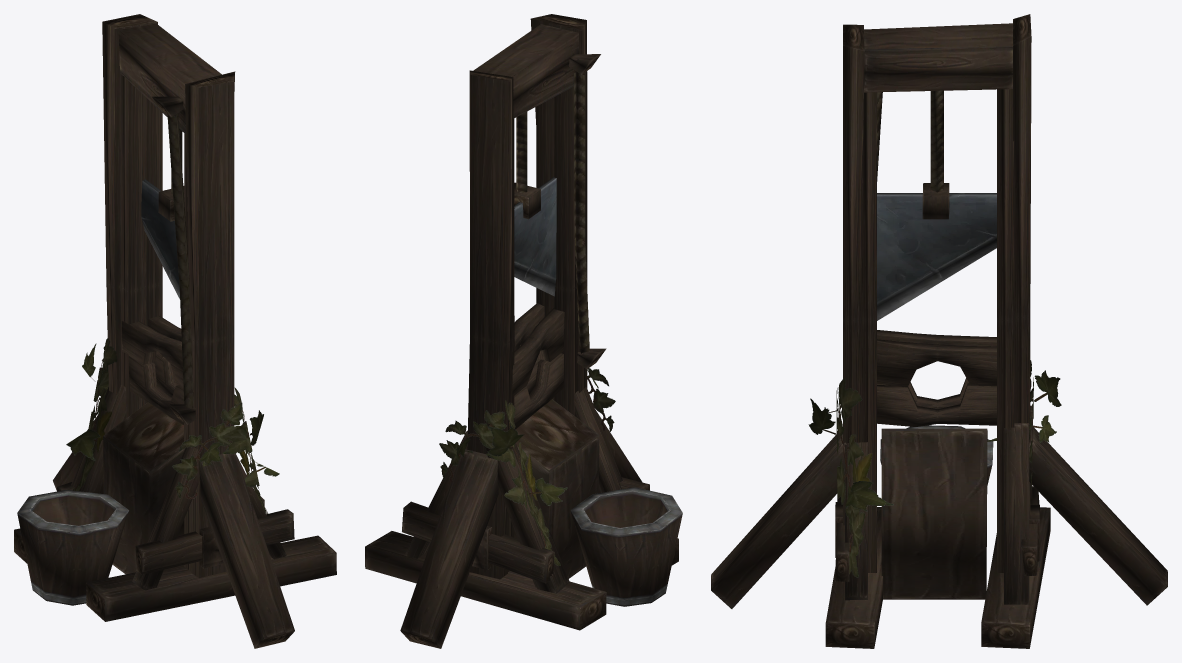
3 views of the same model, side by side, from view 1: azimuth 30°, elevation 25°; view 2: azimuth 150°, elevation 25°; view 3: azimuth 270°, elevation 25° (orthographic). The views are drawn at different scales.
Bounding box in the file's own units: 2.47 × 4.79 × 3.47.
Materials: 4 (4 with a texture image).
